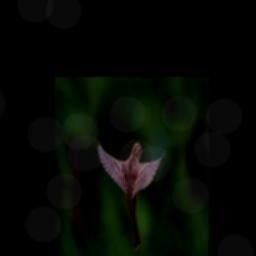Sparrow: (95, 135, 167, 251)
